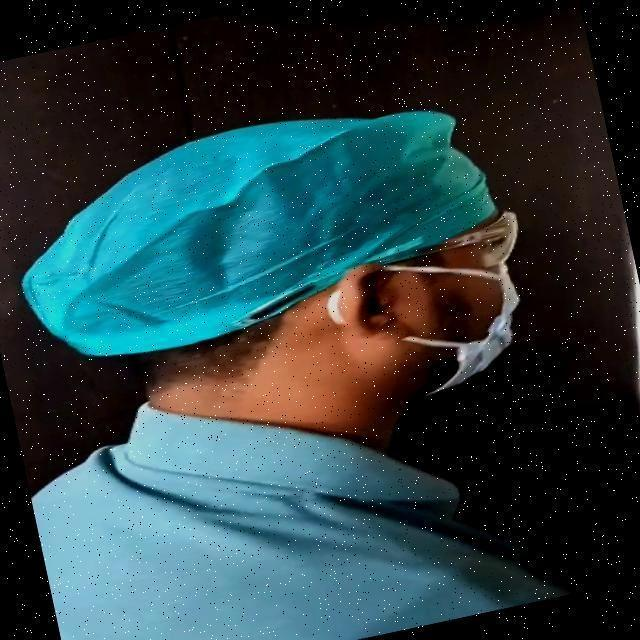gloves: (26, 100, 477, 351)
